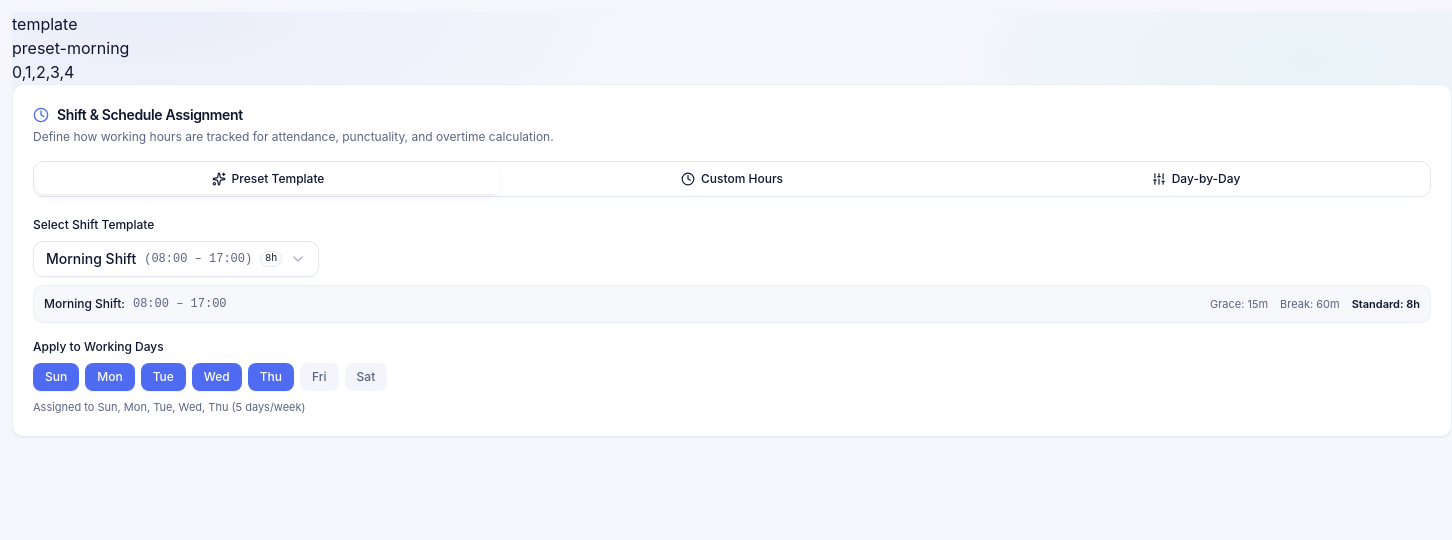
Test: ShiftAssignmentPicker › switches between Preset, Custom, and Day-by-Day tabs
Switch to Custom Hours
Click the tab "Custom Hours" at (732, 179), box top-left (500, 164), bottom-right (964, 194)
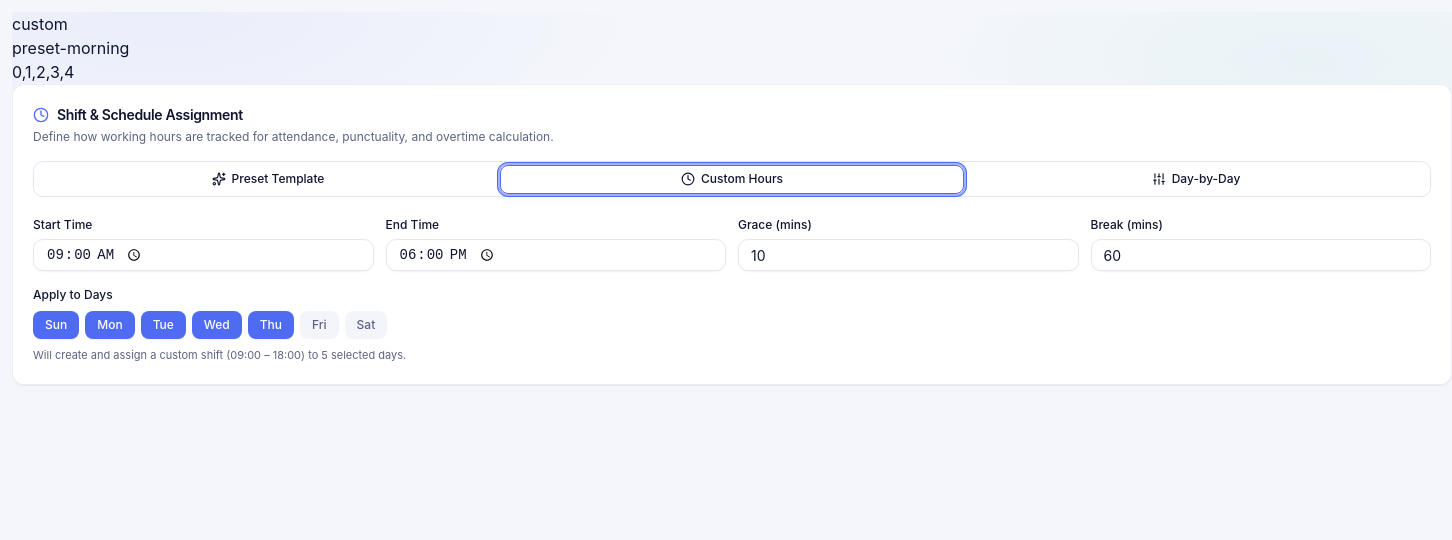
Result: the text with test id "current-mode" reads "custom" at top-left (12, 14), bottom-right (68, 34)
Result: the text "Start Time" is shown at top-left (33, 217), bottom-right (92, 232)
Result: the text "End Time" is shown at top-left (386, 217), bottom-right (439, 232)
Switch to Day-by-Day
Click the tab "Day-by-Day" at (1196, 179), box top-left (964, 164), bottom-right (1428, 194)
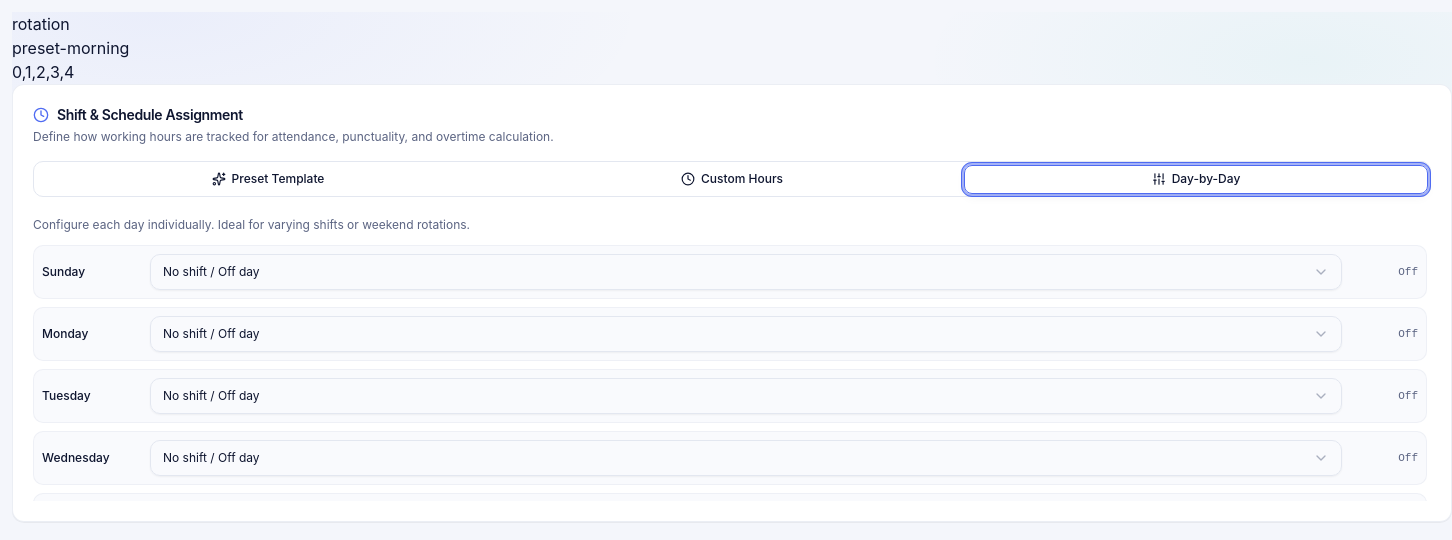
Result: the text with test id "current-mode" reads "rotation" at top-left (12, 14), bottom-right (70, 34)
Result: the text "Sunday" is shown at top-left (42, 264), bottom-right (85, 279)
Result: the text "Monday" is shown at top-left (42, 326), bottom-right (88, 341)
